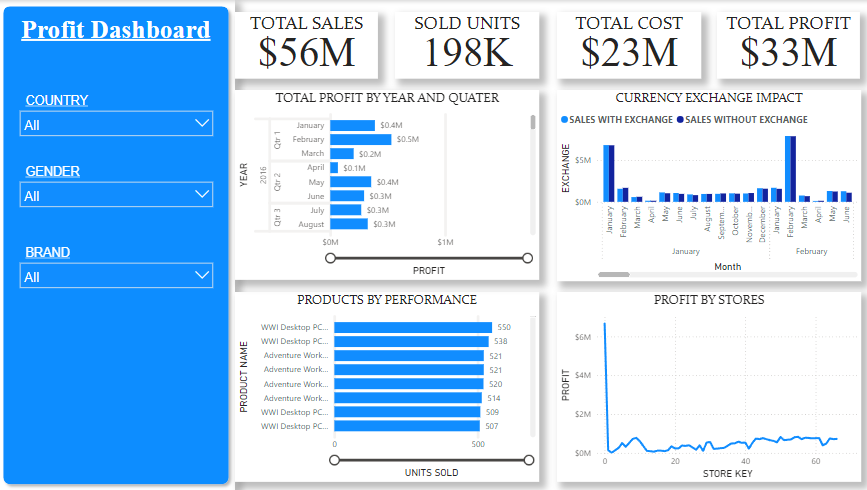

What the dashboard file says about the page in this screenshot:
{"tool":"powerbi","page":{"name":"SALES DASHBOARD","canvas":[1280,720],"ordinal":0},"visuals":[{"type":"shape","box":[0,0,349.4,720.6],"z":0},{"type":"textbox","box":[0,16.8,349.4,79],"z":1000},{"type":"slicer","fields":{"Values":["data_spark customer.Country"]},"box":[24.2,153.5,303.6,70.7],"z":2000},{"type":"slicer","fields":{"Values":["data_spark customer.Gender"]},"box":[24.2,257,303.6,70.7],"z":3000},{"type":"card","title":"TOTAL SALES","fields":{"Values":["Sum(data_spark sales.Amount)"]},"box":[350.2,17.3,210.5,98.3],"z":4000},{"type":"slicer","fields":{"Values":["data_spark product.Brand"]},"box":[24.2,376.1,303.6,72.5],"z":5000},{"type":"card","title":"SOLD UNITS","fields":{"Values":["data_spark sales.TOTAL QTY"]},"box":[584.8,17.3,212.2,98.3],"z":6000},{"type":"card","title":"TOTAL COST","fields":{"Values":["data_spark sales.COST_m"]},"box":[822.9,17.3,212.2,98.3],"z":7000},{"type":"card","title":"TOTAL PROFIT","fields":{"Values":["data_spark sales.PROFIT"]},"box":[1057.5,17.3,210.5,98.3],"z":8000},{"type":"barChart","title":"PRODUCTS BY PERFORMANCE","fields":{"Category":["data_spark product.Product_name"],"Y":["data_spark sales.TOTAL QTY"]},"box":[350.2,429.5,446.8,279.5],"z":9000},{"type":"columnChart","title":"CURRENCY EXCHANGE IMPACT","fields":{"Category":["data_spark exchange_rates.Currency"],"Y":["Sum(data_spark exchange_rates.Exchange)"]},"box":[822.9,132.8,446.8,279.5],"z":10000},{"type":"textbox","box":[36.2,132.8,360.5,41.4],"z":11000},{"type":"barChart","title":"TOTAL PROFIT BY YEAR AND QUATER","fields":{"Category":["data_spark sales.Order_date.Variation.Date Hierarchy.Year","data_spark sales.Order_date.Variation.Date Hierarchy.Quarter","data_spark sales.Order_date.Variation.Date Hierarchy.Month","data_spark sales.Order_date.Variation.Date Hierarchy.Day"],"Y":["data_spark sales.PROFIT"]},"box":[350.2,132.8,446.8,279.5],"z":12000},{"type":"lineChart","title":"PROFIT BY STORES","fields":{"Category":["data_spark stores.Store_key"],"Y":["data_spark sales.PROFIT"]},"box":[822.9,429.5,446.8,279.5],"z":13000},{"type":"textbox","box":[36.2,236.3,360.5,41.4],"z":14000},{"type":"textbox","box":[36.2,355.4,360.5,41.4],"z":15000}]}

Visuals, with their boxes in screenshot pixels (x1, y1, x2, y2), scaled from the page's 1280x720 canvas onto the 867x490 screenshot:
shape: locate(0, 0, 237, 489)
textbox: locate(0, 11, 237, 65)
slicer - data_spark customer.Country: locate(16, 104, 222, 153)
slicer - data_spark customer.Gender: locate(16, 175, 222, 223)
"TOTAL SALES" card: locate(237, 12, 380, 79)
slicer - data_spark product.Brand: locate(16, 256, 222, 305)
"SOLD UNITS" card: locate(396, 12, 540, 79)
"TOTAL COST" card: locate(557, 12, 701, 79)
"TOTAL PROFIT" card: locate(716, 12, 859, 79)
"PRODUCTS BY PERFORMANCE" barChart: locate(237, 292, 540, 483)
"CURRENCY EXCHANGE IMPACT" columnChart: locate(557, 90, 860, 281)
textbox: locate(25, 90, 269, 119)
"TOTAL PROFIT BY YEAR AND QUATER" barChart: locate(237, 90, 540, 281)
"PROFIT BY STORES" lineChart: locate(557, 292, 860, 483)
textbox: locate(25, 161, 269, 189)
textbox: locate(25, 242, 269, 270)
